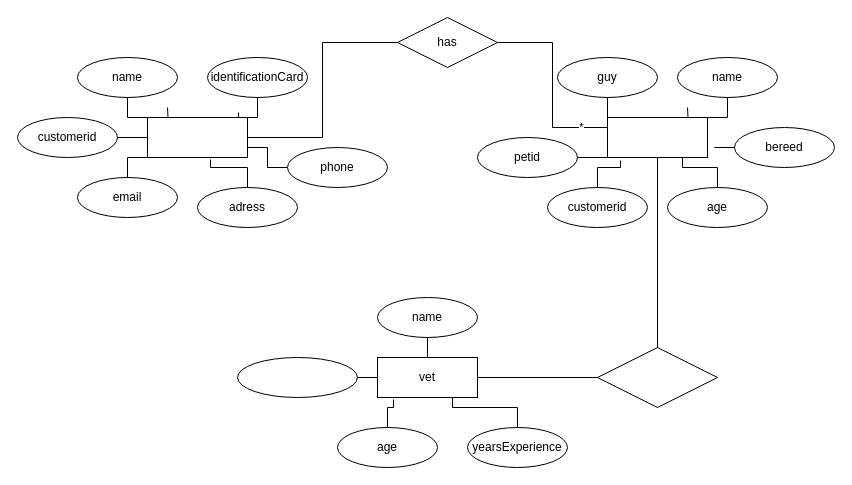
This 852x485 diagram has some shape labels left out. Here are the shapes that lost their labels. From the top down, the centre of each, then its label:
the point at 197,137: customer
the point at 657,137: pet
the point at 297,377: professionalLicense
the point at 657,377: attends
